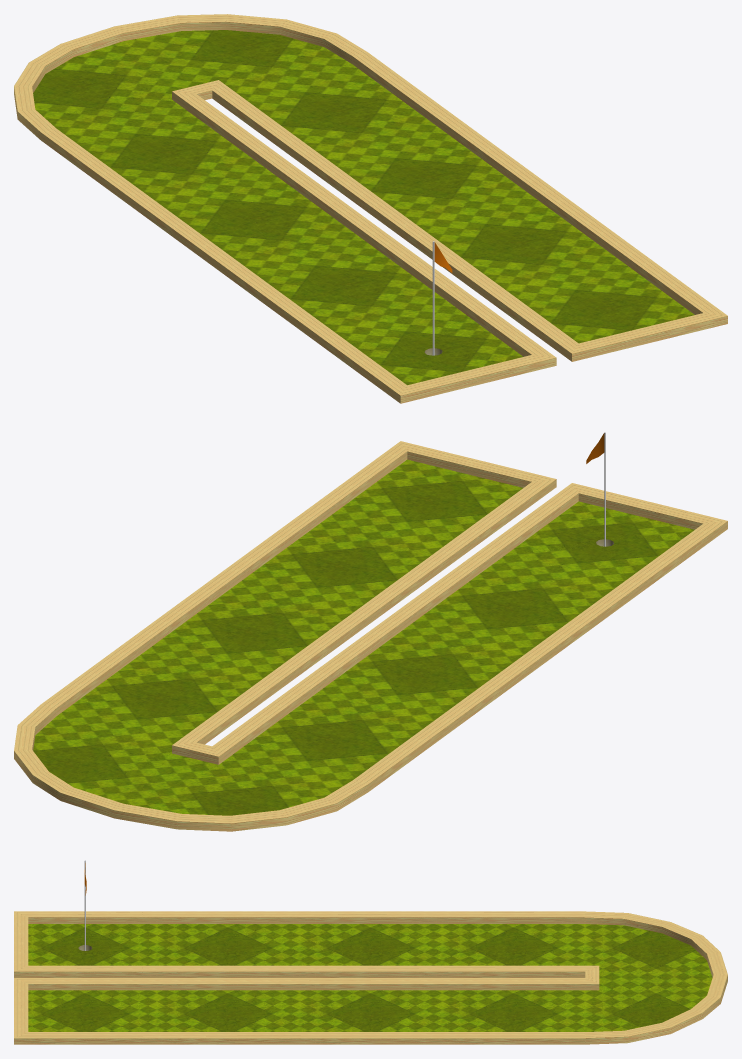
Rendered from course1_hole10.fbx.
3 renders of one model, top to bottom at view 1: azimuth 30°, elevation 25°; view 2: azimuth 150°, elevation 25°; view 3: azimuth 270°, elevation 25°, orthographic. The views are drawn at different scales.
Parts seen in each view (by area): view 1: course1_hole10_ground, course1_hole10_walls; view 2: course1_hole10_ground, course1_hole10_walls; view 3: course1_hole10_ground, course1_hole10_walls.
Boxes of the visible parts, <box> form: course1_hole10_ground: <box>33,30,694,385</box>; course1_hole10_walls: <box>14,14,727,403</box>; course1_hole10_ground: <box>33,459,694,815</box>; course1_hole10_walls: <box>14,441,727,831</box>; course1_hole10_ground: <box>28,924,712,1031</box>; course1_hole10_walls: <box>14,911,727,1044</box>.
Size of the model in its own units: 6.3 by 2.25 by 15.
